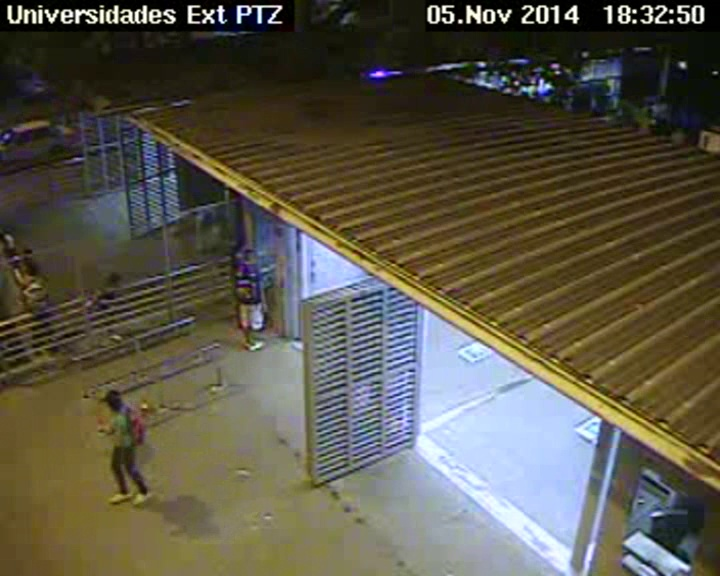person: (105, 388, 126, 410), (240, 245, 257, 261), (108, 273, 122, 287), (21, 263, 35, 277), (24, 250, 33, 260), (12, 258, 21, 267)
